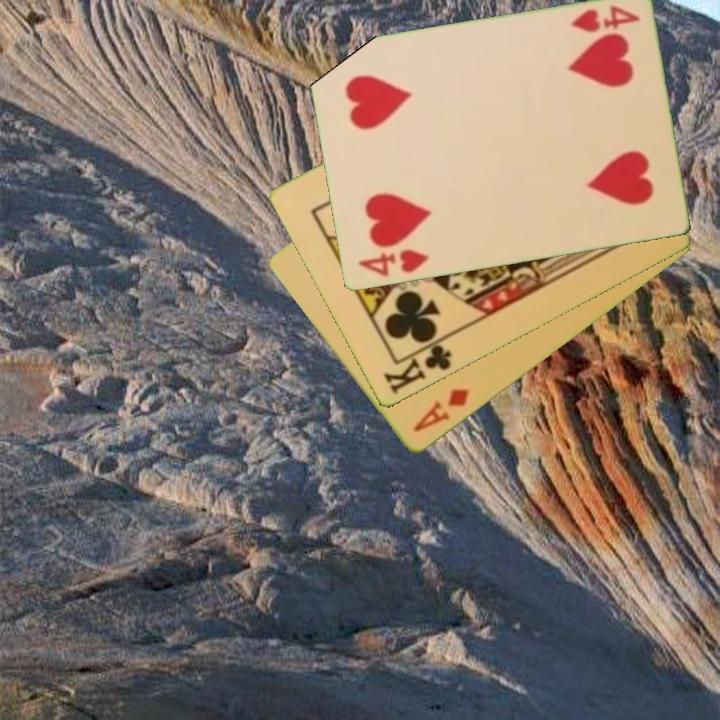4h: (354, 246, 432, 280), (567, 2, 643, 36)
Ad: (409, 385, 473, 436)
Kc: (379, 334, 455, 398)
